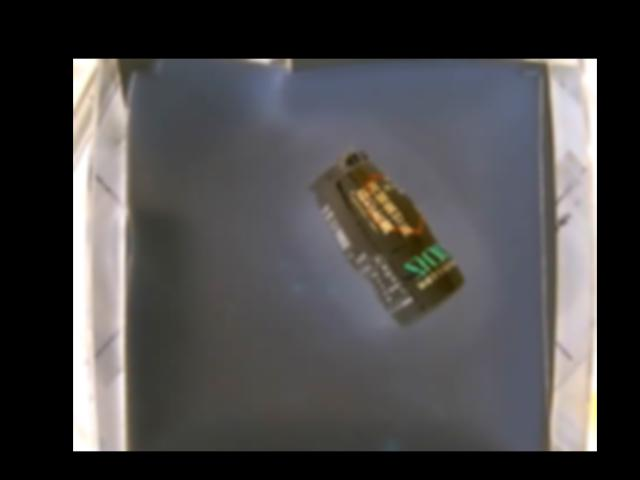Bottle: (308, 147, 466, 327)
